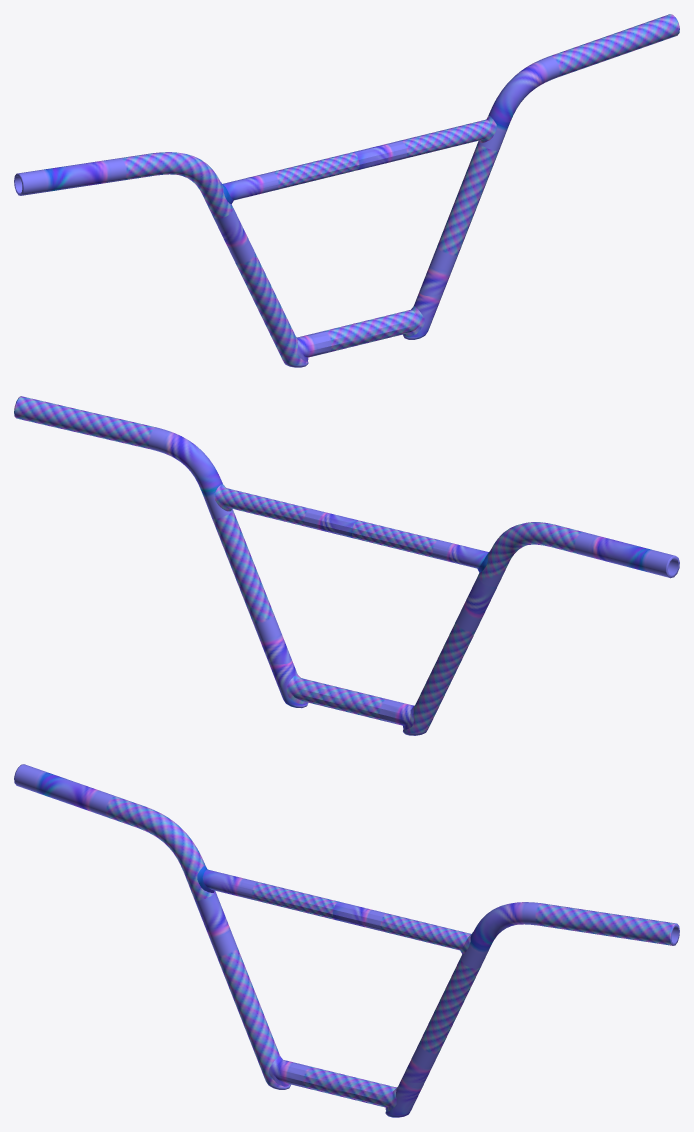
Rendered from BMX_Bars_DAB_Worn.fbx.
The picture shows the model from 3 angles, top to bottom: view 1: azimuth 30°, elevation 25°; view 2: azimuth 150°, elevation 25°; view 3: azimuth 330°, elevation 25°; orthographic projection.
Visible parts, largest first — view 1: BMX_Bars_Dab_Warn; view 2: BMX_Bars_Dab_Warn; view 3: BMX_Bars_Dab_Warn.
Boxes of the visible parts, x1=… form: BMX_Bars_Dab_Warn: x1=14, y1=14, x2=679, y2=367; BMX_Bars_Dab_Warn: x1=14, y1=396, x2=679, y2=735; BMX_Bars_Dab_Warn: x1=14, y1=764, x2=679, y2=1117.
Size of the model in its own units: 73.4 by 26.62 by 4.08.
1 material, 1 textured.
